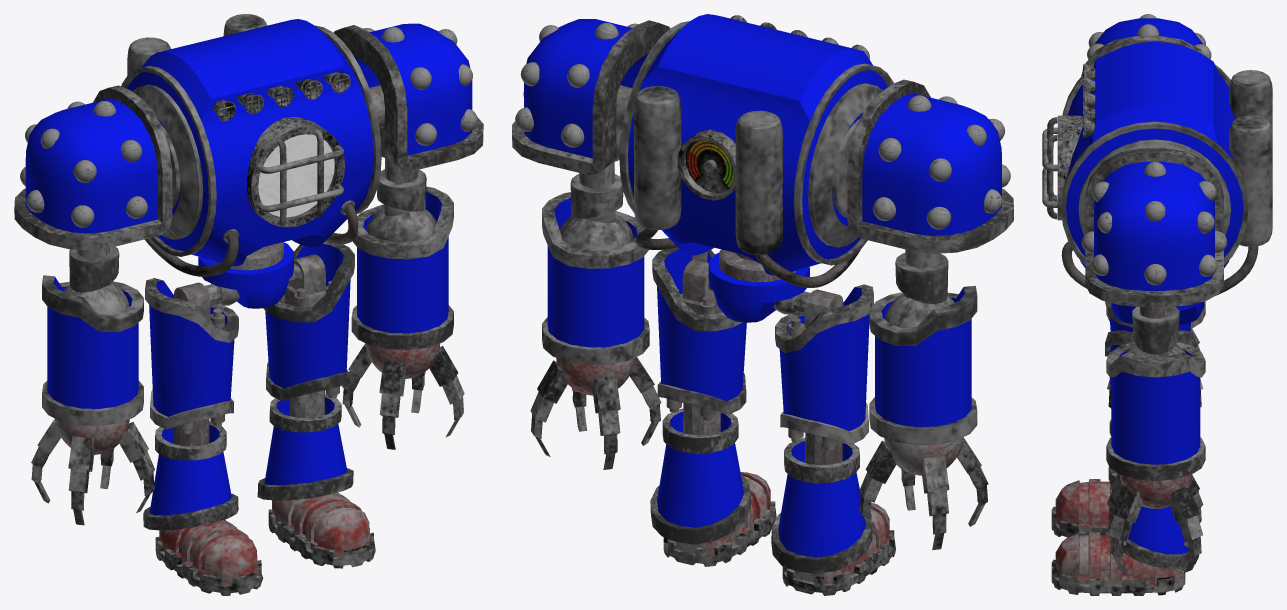
Rendered from MechMan3.fbx.
3 renders of one model, left to right at view 1: azimuth 30°, elevation 25°; view 2: azimuth 150°, elevation 25°; view 3: azimuth 270°, elevation 25°, orthographic. The views are drawn at different scales.
Parts seen in each view (by area): view 1: Body, R.Shoulder, L.Shoulder, L.Wrist, R.Wrist, R.UpperLegArmor, L.UpperLegArmor, R.LowerLeg, L.LowerLeg, Viewport, L.Foot, R.Foot (+20 smaller); view 2: Body, R.Shoulder, L.Shoulder, L.Wrist, R.Wrist, R.UpperLegArmor, L.UpperLegArmor, L.LowerLeg, R.LowerLeg, R.Tank, L.Tank, Pelvis (+19 smaller); view 3: L.Shoulder, Body, L.Wrist, L.Foot, L.Tank, L.LowerLeg, R.Shoulder, R.Foot, R.Tank, L.Elbow, L.Finger4, L.Finger1 (+9 smaller).
Part boxes in pixels (left/top/right/bottom): Body: left=121, top=19, right=381, bottom=266; R.Shoulder: left=14, top=85, right=172, bottom=250; L.Shoulder: left=333, top=23, right=483, bottom=171; L.Wrist: left=351, top=186, right=453, bottom=350; R.Wrist: left=42, top=275, right=143, bottom=425; R.UpperLegArmor: left=145, top=278, right=238, bottom=429; L.UpperLegArmor: left=263, top=240, right=354, bottom=401; R.LowerLeg: left=143, top=421, right=238, bottom=530; L.LowerLeg: left=257, top=393, right=353, bottom=500; Viewport: left=246, top=117, right=344, bottom=227; L.Foot: left=268, top=492, right=375, bottom=568; R.Foot: left=155, top=519, right=262, bottom=595; Body: left=619, top=14, right=893, bottom=275; R.Shoulder: left=847, top=79, right=1013, bottom=253; L.Shoulder: left=512, top=19, right=670, bottom=174; L.Wrist: left=542, top=192, right=649, bottom=365; R.Wrist: left=869, top=285, right=977, bottom=444; R.UpperLegArmor: left=775, top=284, right=873, bottom=444; L.UpperLegArmor: left=652, top=247, right=746, bottom=414; L.LowerLeg: left=650, top=408, right=750, bottom=544; R.LowerLeg: left=771, top=437, right=872, bottom=573; R.Tank: left=735, top=110, right=782, bottom=254; L.Tank: left=634, top=86, right=681, bottom=229; Pelvis: left=708, top=249, right=809, bottom=322; L.Shoulder: left=1081, top=148, right=1227, bottom=306; Body: left=1061, top=41, right=1248, bottom=267; L.Wrist: left=1106, top=341, right=1205, bottom=481; L.Foot: left=1051, top=532, right=1185, bottom=595; L.Tank: left=1229, top=115, right=1272, bottom=246; L.LowerLeg: left=1108, top=506, right=1198, bottom=569; R.Shoulder: left=1081, top=14, right=1211, bottom=76; R.Foot: left=1051, top=479, right=1111, bottom=537; R.Tank: left=1229, top=70, right=1272, bottom=132; L.Elbow: left=1132, top=306, right=1179, bottom=354; L.Finger4: left=1169, top=485, right=1202, bottom=572; L.Finger1: left=1108, top=485, right=1142, bottom=572.
Bounding box in the file's own units: 1562 × 1670 × 724.
